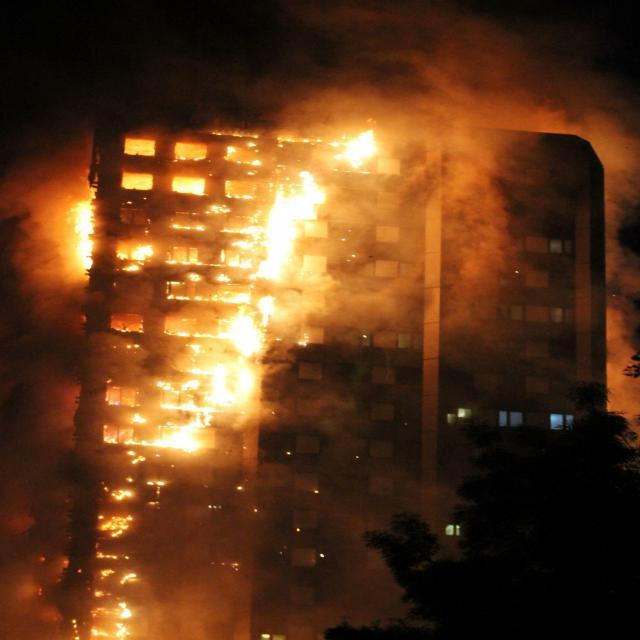Fire: (49, 104, 395, 639)
